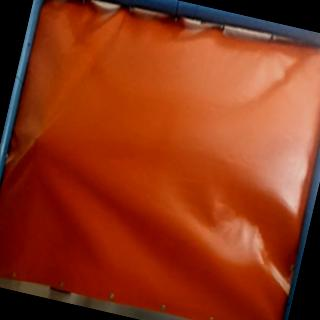Hit-hRxx: (28, 130, 46, 148)
